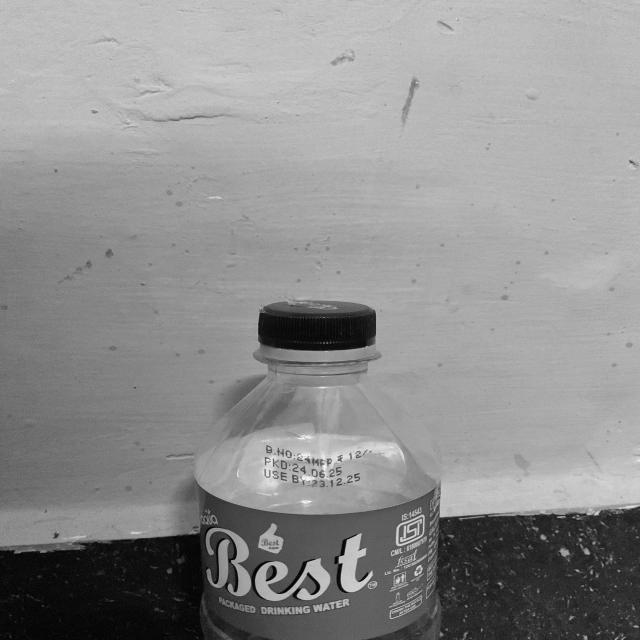Good-cap-Df0S: (251, 297, 384, 361)
